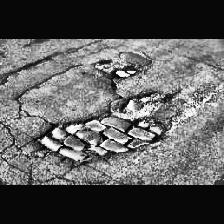pothole: (34, 114, 168, 166), (118, 90, 164, 118), (114, 66, 136, 78)
